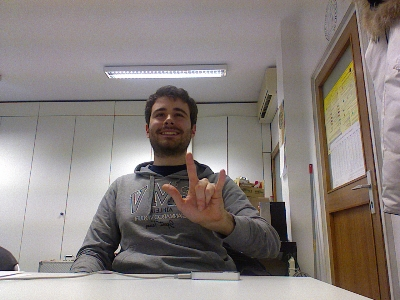我爱你: (160, 151, 229, 228)
